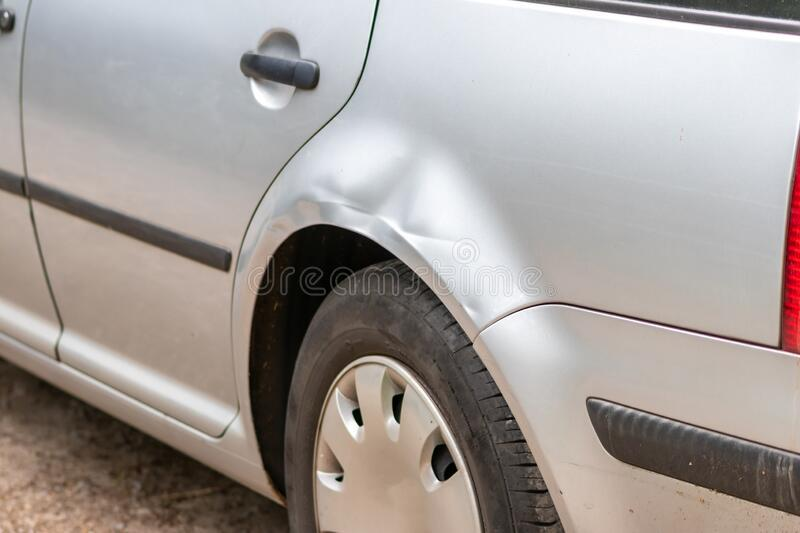quaterpanel-dent: (282, 23, 799, 359)
